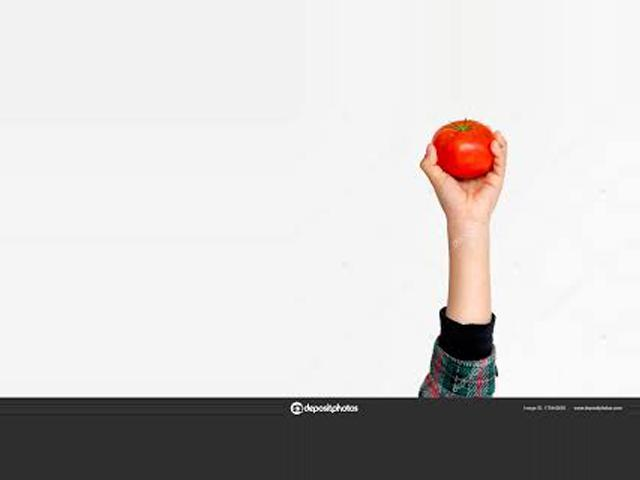tomato: (432, 118, 496, 179)
